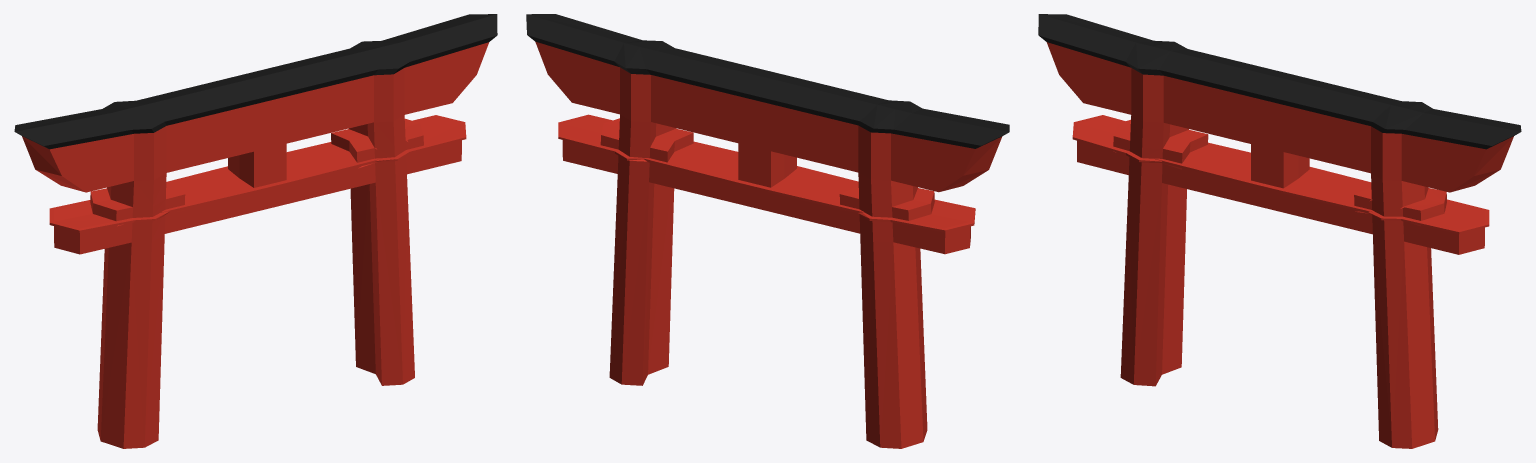
File: Torii.fbx
3 views of the same model, side by side, from view 1: azimuth 30°, elevation 25°; view 2: azimuth 150°, elevation 25°; view 3: azimuth 330°, elevation 25° (orthographic).
Parts seen in each view (by area): view 1: Torii; view 2: Torii; view 3: Torii.
Boxes of the visible parts, left/top/right/bottom form: Torii: left=14, top=14, right=497, bottom=448; Torii: left=526, top=14, right=1009, bottom=448; Torii: left=1038, top=14, right=1521, bottom=448.
Size of the model in its own units: 10.73 by 7.02 by 1.51.
